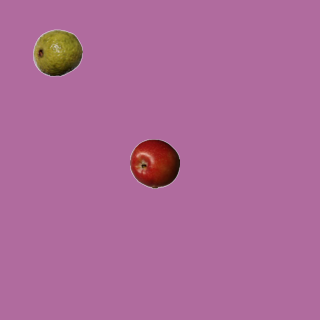Apple Braeburn: (129, 138, 179, 188)
Guava: (32, 27, 82, 77)
